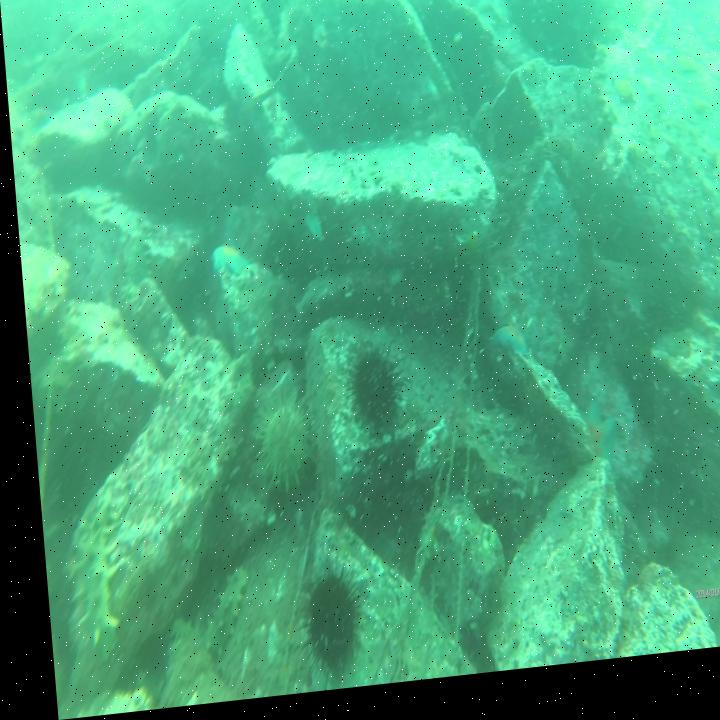echinus: (288, 564, 363, 683), (337, 342, 415, 454), (243, 386, 315, 504)
holothurian: (51, 503, 118, 645), (184, 565, 245, 670), (113, 228, 148, 299)
starfish: (571, 407, 614, 491), (481, 330, 526, 383), (203, 248, 253, 288)
